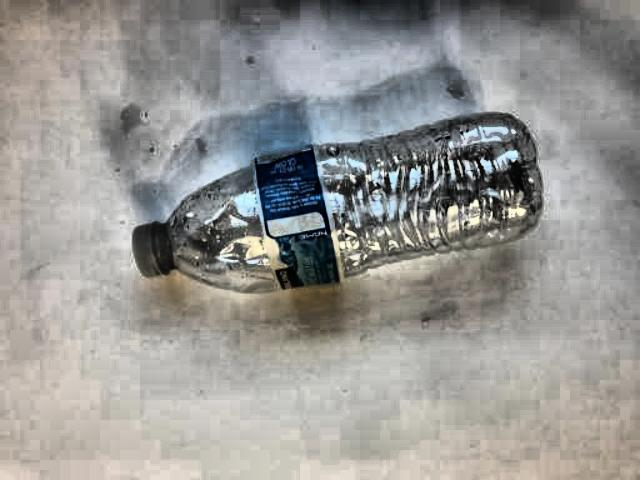Bottles: (118, 101, 557, 327)
